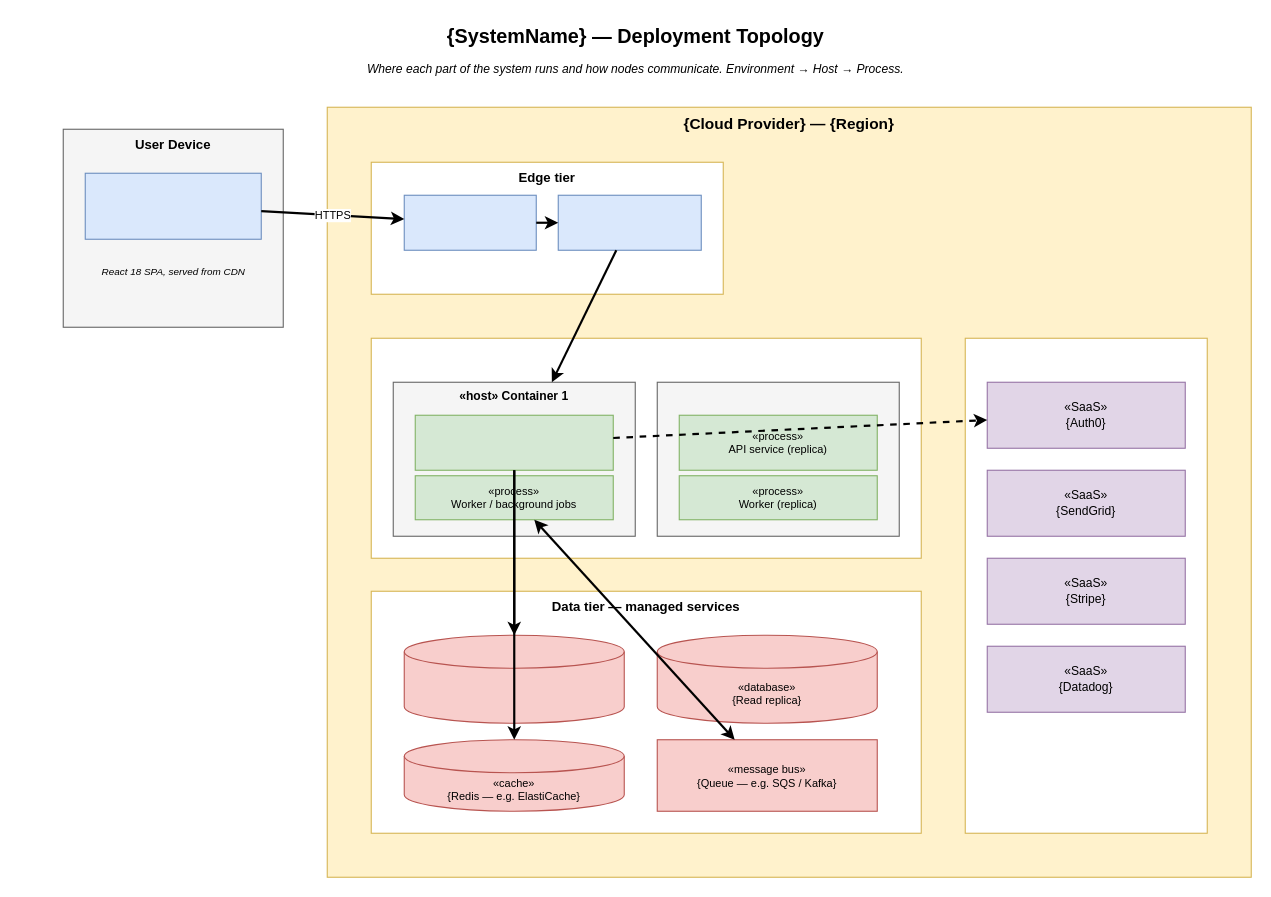
Some shapes in this 1271 by 897 pixel diagram are drawn without their labels. The box of each missing label's shape, as (x1, y1, x2, y2) in pixels:
App tier — {Runtime — e.g. ECS Fargate}: (370, 337, 921, 558)
External SaaS: (964, 337, 1207, 833)
«browser» {ClientApp}: (84, 172, 261, 239)
«database» {Primary DB — e.g. RDS Postgres Multi-AZ}: (403, 634, 624, 723)
«host» Container 2: (656, 381, 899, 536)
«process» API service: (414, 414, 613, 470)
«service» {CDN — e.g. CloudFront}: (403, 194, 536, 250)
«service» {Load Balancer — e.g. ALB}: (557, 194, 701, 250)
